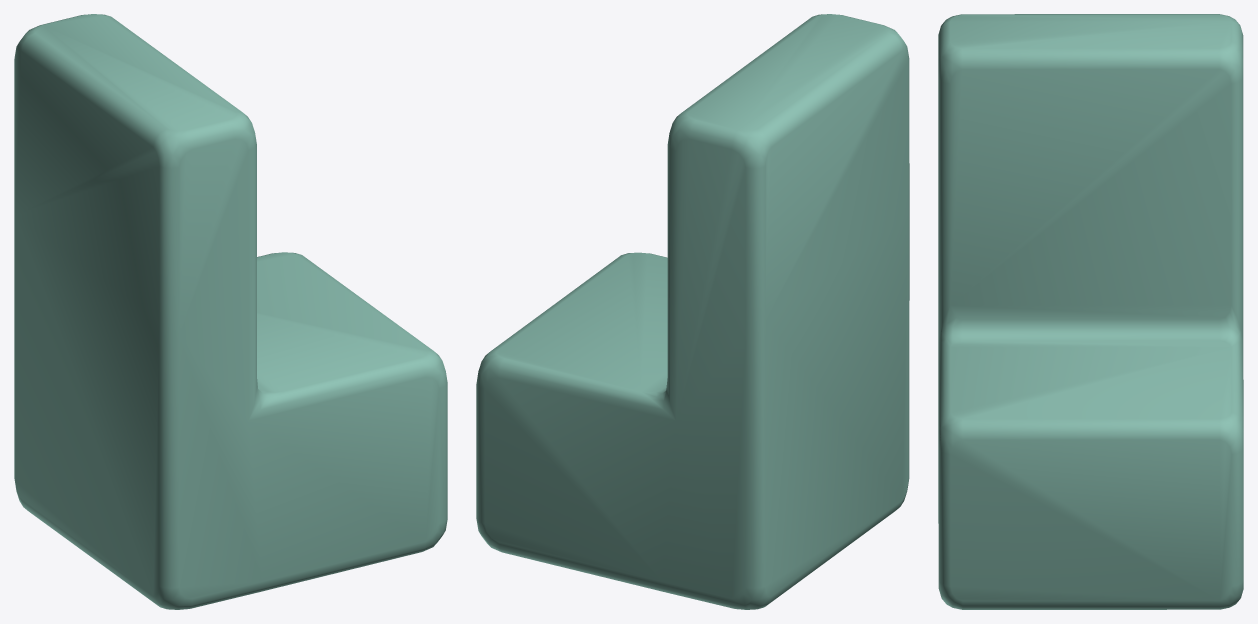
Rendered from seat.fbx.
The picture shows the model from 3 angles, left to right: view 1: azimuth 30°, elevation 25°; view 2: azimuth 150°, elevation 25°; view 3: azimuth 270°, elevation 25°; orthographic projection. The views are drawn at different scales.
Parts seen in each view (by area): view 1: Cube.001; view 2: Cube.001; view 3: Cube.001.
Boxes of the visible parts, left/top/right/bottom form: Cube.001: left=14, top=14, right=447, bottom=609; Cube.001: left=476, top=14, right=909, bottom=609; Cube.001: left=938, top=14, right=1243, bottom=609.
Bounding box in the file's own units: 218 × 345 × 204.
